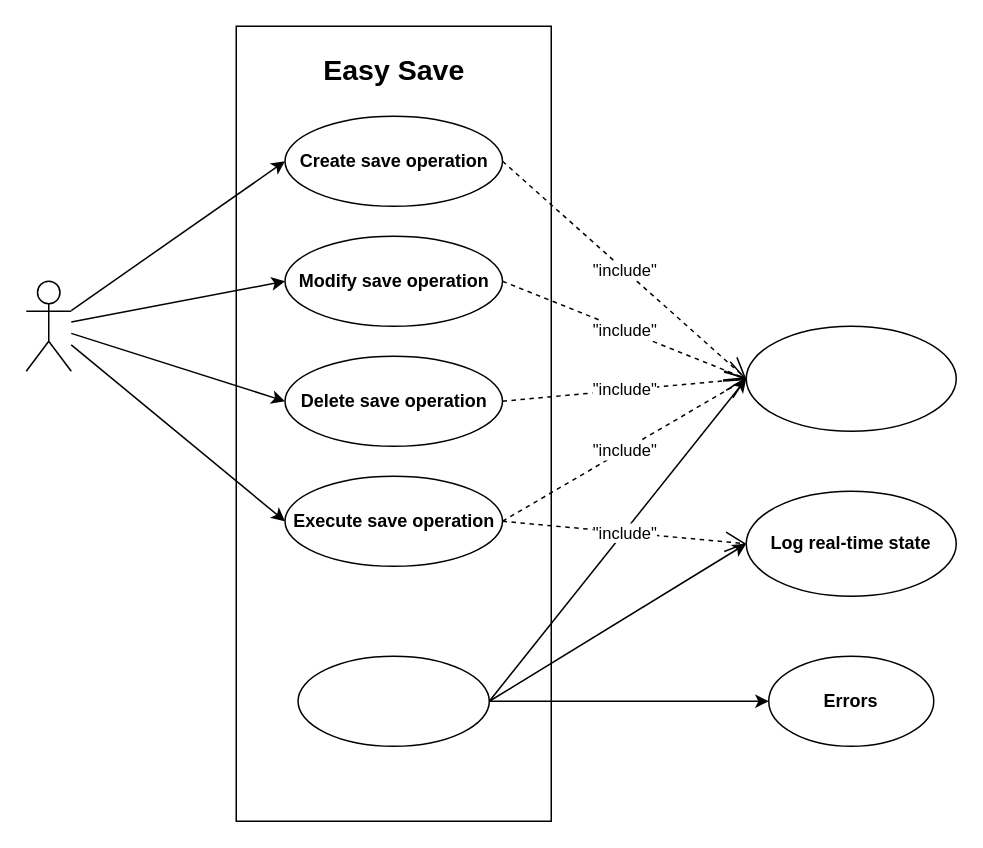
This 983x848 diagram has some shape labels left out. Here are the shapes that lost their labels. From the top down, the centre of each, then its label:
(48,325): User
(850,378): Log actions
(393,700): Sytem
